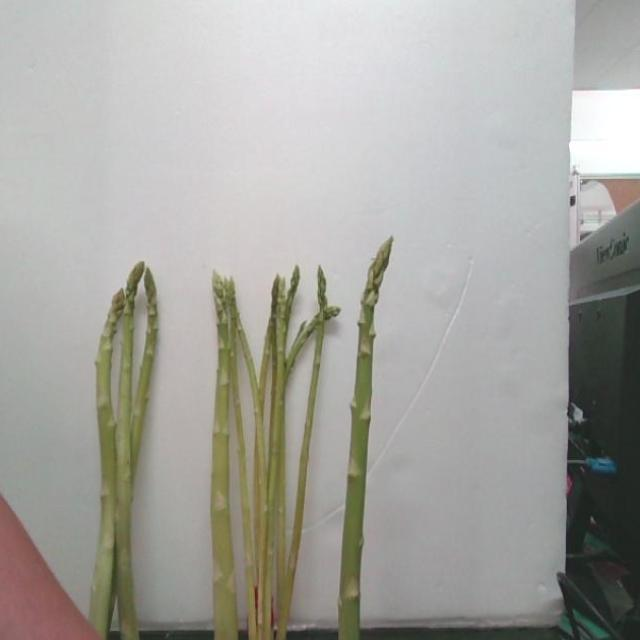aspargus: (339, 240, 393, 640), (88, 288, 122, 640)
